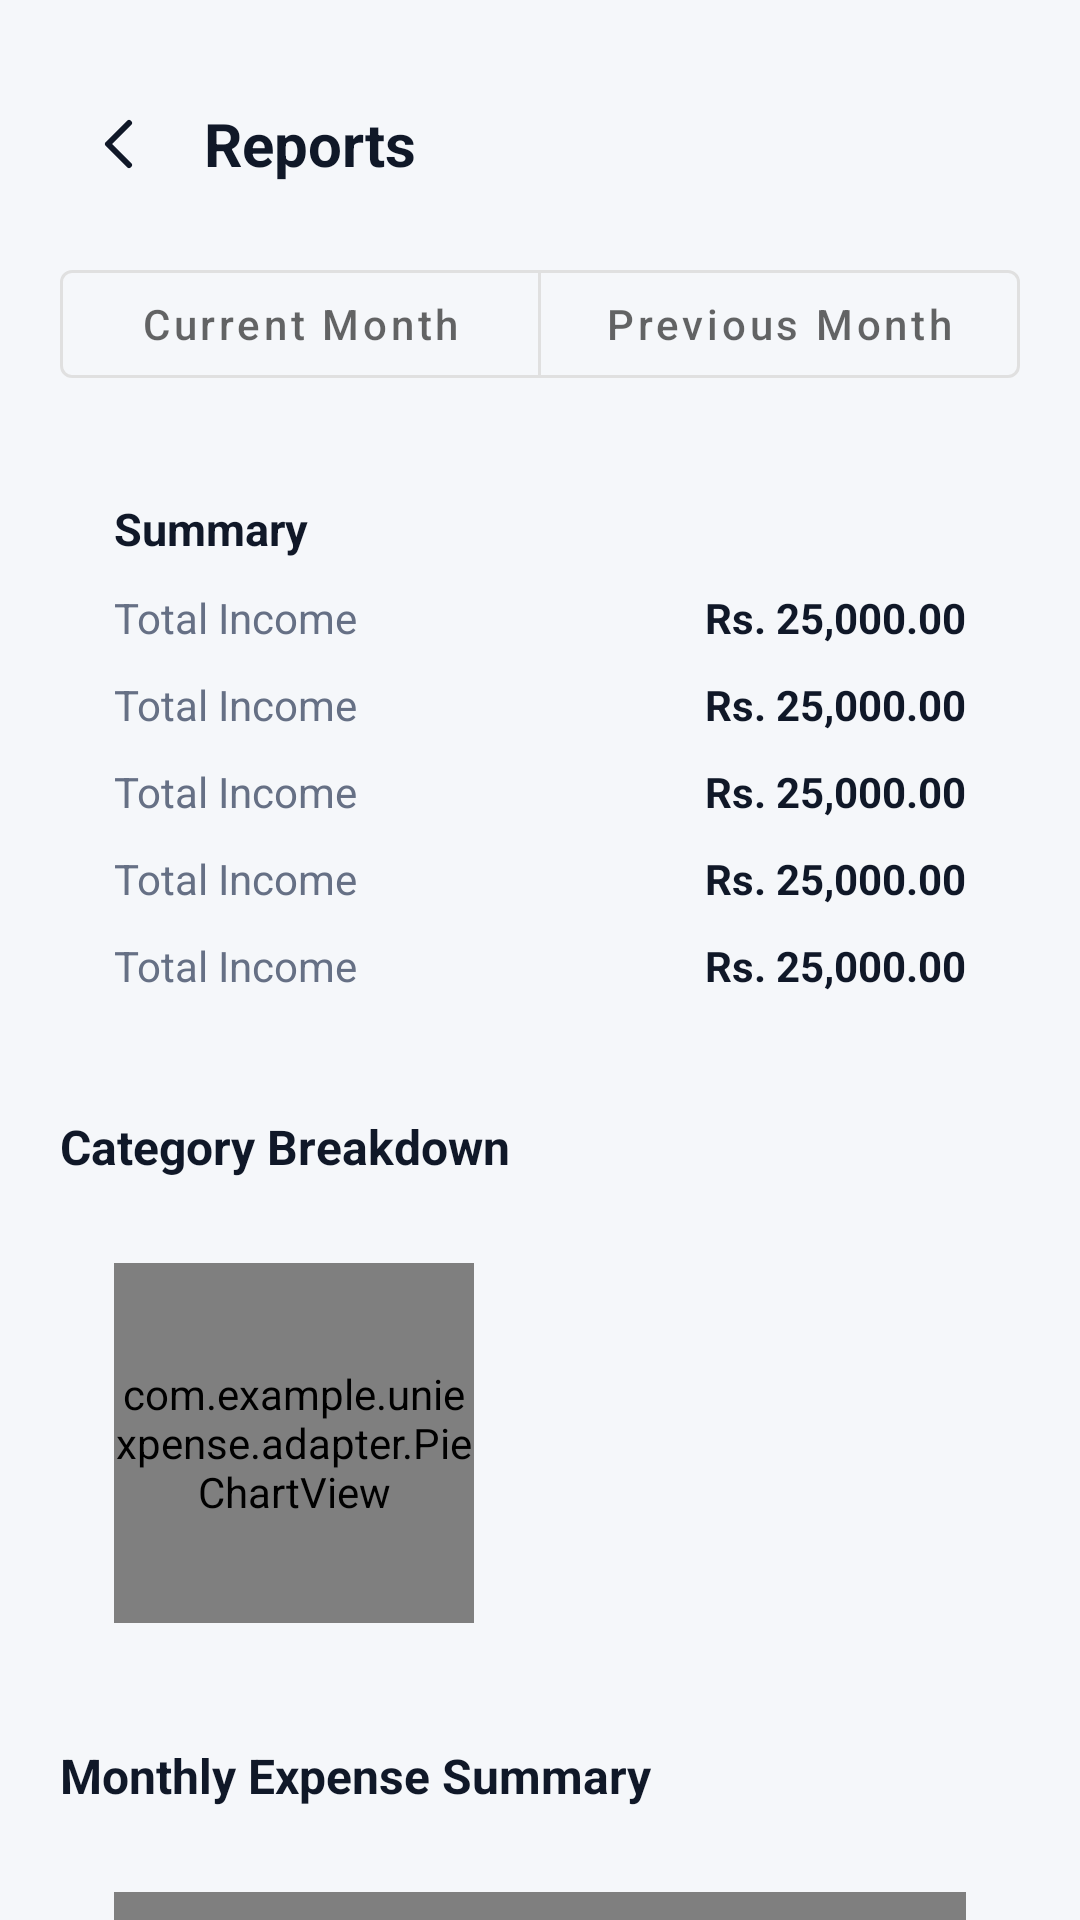

Icon click points for this 1080px x 1920px phone screenshot, format (x,y):
Back to Login: (118,144)
